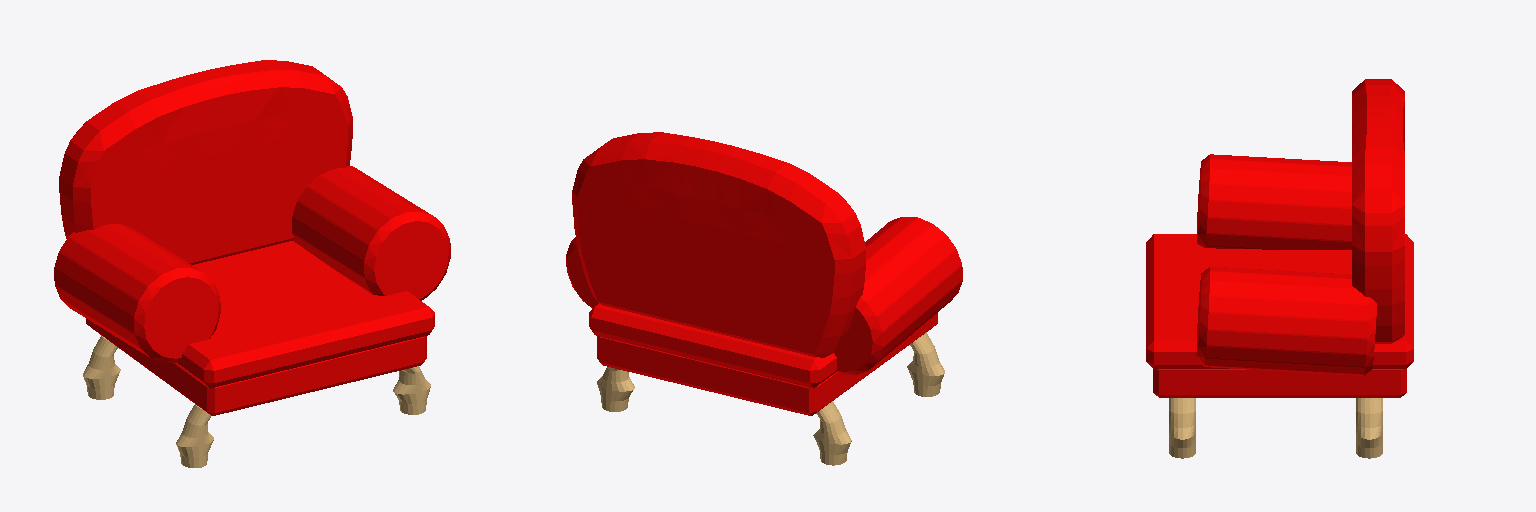
3 renders of one model, left to right at view 1: azimuth 30°, elevation 25°; view 2: azimuth 150°, elevation 25°; view 3: azimuth 270°, elevation 25°, orthographic.
Visible parts, largest first — view 1: Box002, s2, 2, c2, Box001, p3, p1, p2; view 2: Box002, 2, Box001, s2, p1, p3, p004, c2; view 3: c2, 2, Box002, s2, Box001, p2, p004.
Part boxes in pixels (left/top/right/bottom): Box002: left=59, top=60, right=352, bottom=264; s2: left=176, top=241, right=434, bottom=388; 2: left=54, top=224, right=220, bottom=362; c2: left=292, top=166, right=450, bottom=300; Box001: left=86, top=319, right=426, bottom=415; p3: left=83, top=335, right=120, bottom=399; p1: left=176, top=404, right=213, bottom=467; p2: left=393, top=366, right=430, bottom=414; Box002: left=572, top=132, right=865, bottom=357; 2: left=834, top=217, right=962, bottom=374; Box001: left=597, top=313, right=937, bottom=415; s2: left=589, top=303, right=836, bottom=388; p1: left=907, top=332, right=944, bottom=396; p3: left=813, top=401, right=851, bottom=465; p004: left=597, top=367, right=634, bottom=411; c2: left=566, top=237, right=598, bottom=308; c2: left=1196, top=267, right=1376, bottom=375; 2: left=1197, top=154, right=1351, bottom=249; Box002: left=1352, top=79, right=1404, bottom=343; s2: left=1146, top=234, right=1413, bottom=368; Box001: left=1153, top=369, right=1406, bottom=397; p2: left=1169, top=398, right=1195, bottom=458; p004: left=1356, top=398, right=1382, bottom=458.
Bounding box in the file's own units: 53.76 × 46.84 × 39.37.
Materials: 2 (2 with a texture image).